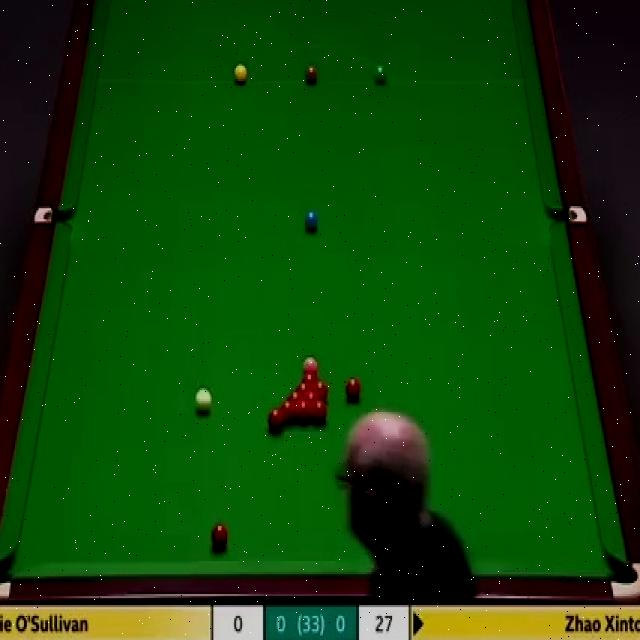blue-ball: (302, 209, 318, 234)
brown-ball: (304, 63, 318, 85)
green-ball: (372, 63, 387, 85)
pink-ball: (298, 348, 320, 378)
red-ball: (267, 406, 285, 434), (344, 377, 364, 402), (210, 526, 229, 552), (281, 398, 298, 424), (310, 400, 328, 422), (310, 381, 328, 402), (296, 398, 311, 421), (294, 381, 314, 397), (302, 371, 319, 384), (288, 390, 304, 402)
white-ball: (194, 385, 213, 411)
yellow-ball: (234, 64, 247, 85)
